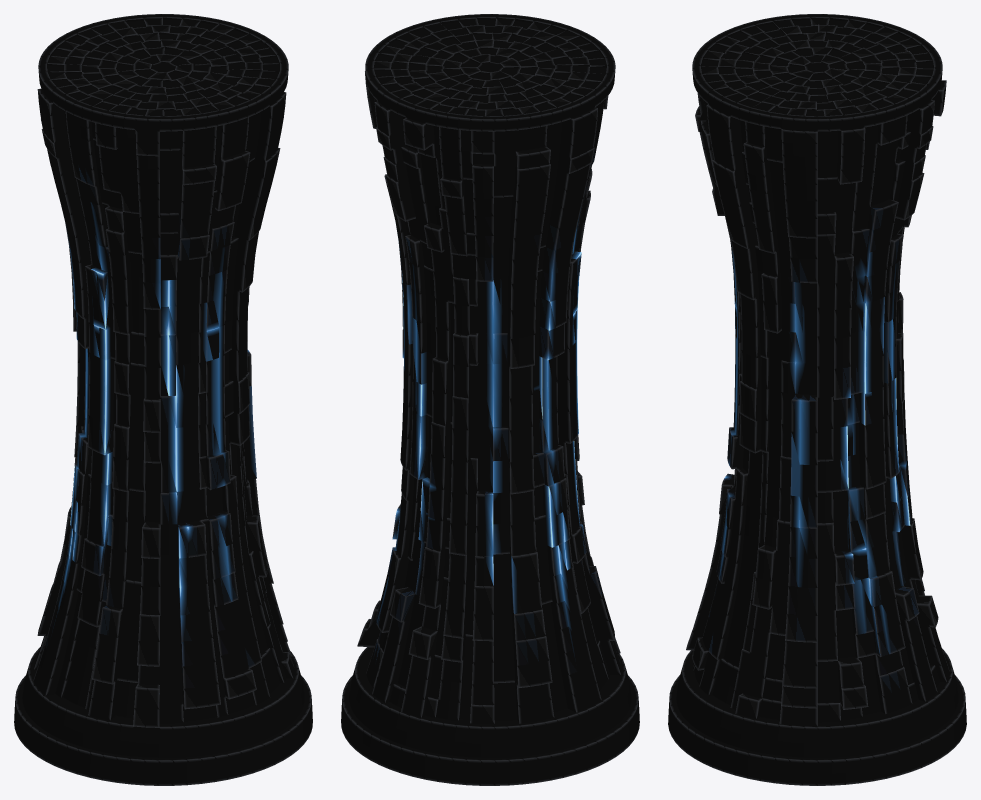
File: island_pillar.glb
3 views of the same model, side by side, from view 1: azimuth 30°, elevation 25°; view 2: azimuth 150°, elevation 25°; view 3: azimuth 270°, elevation 25° (orthographic).
Parts seen in each view (by area): view 1: island_pillar; view 2: island_pillar; view 3: island_pillar.
Boxes of the visible parts, left/top/right/bottom form: island_pillar: left=14, top=14, right=312, bottom=785; island_pillar: left=341, top=14, right=639, bottom=785; island_pillar: left=668, top=14, right=966, bottom=785.
Bounding box in the file's own units: 2.48 × 6 × 2.48.
Materials: 1 (1 with a texture image).
